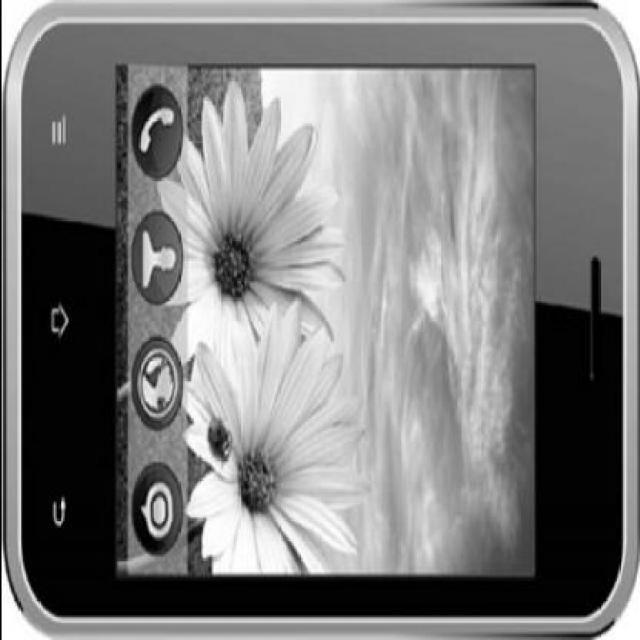fake: (9, 0, 609, 640)
